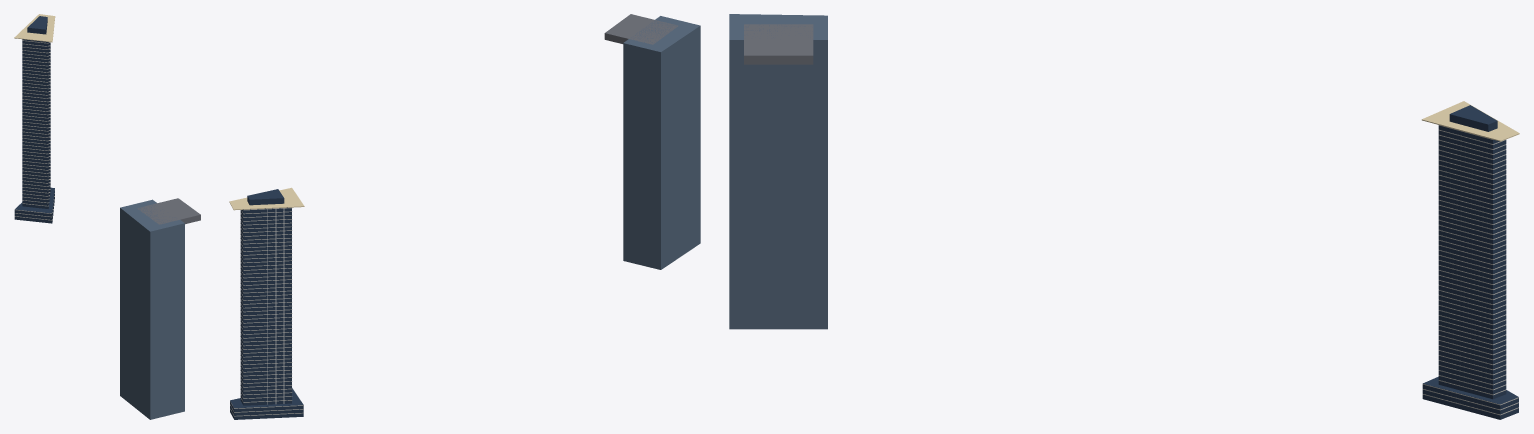
The model's file is paramount-hotel-midtown.glb.
The picture shows the model from 3 angles, left to right: view 1: azimuth 30°, elevation 25°; view 2: azimuth 150°, elevation 25°; view 3: azimuth 270°, elevation 25°; orthographic projection. The views are drawn at different scales.
Visible parts, largest first — view 1: vision_slab_-1, B_1146969101_paramount-hotel-midtown, vision_crown, B_1146969101_paramount-hotel-midtown_gold; view 2: vision_slab_-1, B_1146969101_paramount-hotel-midtown, vision_crown, B_1146969101_paramount-hotel-midtown_gold; view 3: vision_slab_-1, B_1146969101_paramount-hotel-midtown, vision_crown, B_1146969101_paramount-hotel-midtown_gold.
Boxes of the visible parts, <box> form: vision_slab_-1: <box>120,199,184,419</box>; B_1146969101_paramount-hotel-midtown: <box>14,16,54,223</box>; vision_crown: <box>137,198,200,224</box>; B_1146969101_paramount-hotel-midtown_gold: <box>14,14,55,42</box>; vision_slab_-1: <box>623,16,700,269</box>; B_1146969101_paramount-hotel-midtown: <box>230,189,303,419</box>; vision_crown: <box>604,14,677,44</box>; B_1146969101_paramount-hotel-midtown_gold: <box>229,187,304,210</box>; vision_slab_-1: <box>729,14,827,329</box>; B_1146969101_paramount-hotel-midtown: <box>1422,105,1518,419</box>; vision_crown: <box>744,24,813,64</box>; B_1146969101_paramount-hotel-midtown_gold: <box>1421,101,1519,141</box>.
Size of the model in its own units: 226 by 260 by 644.
